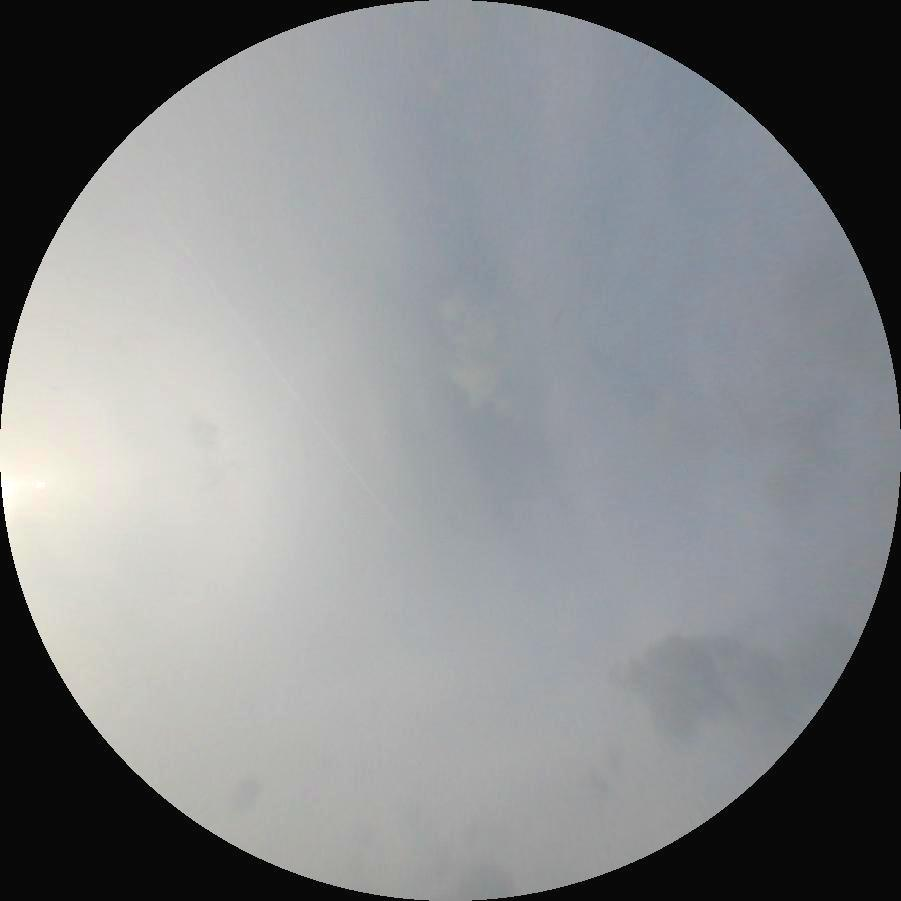contrail young: (139, 187, 418, 550)
